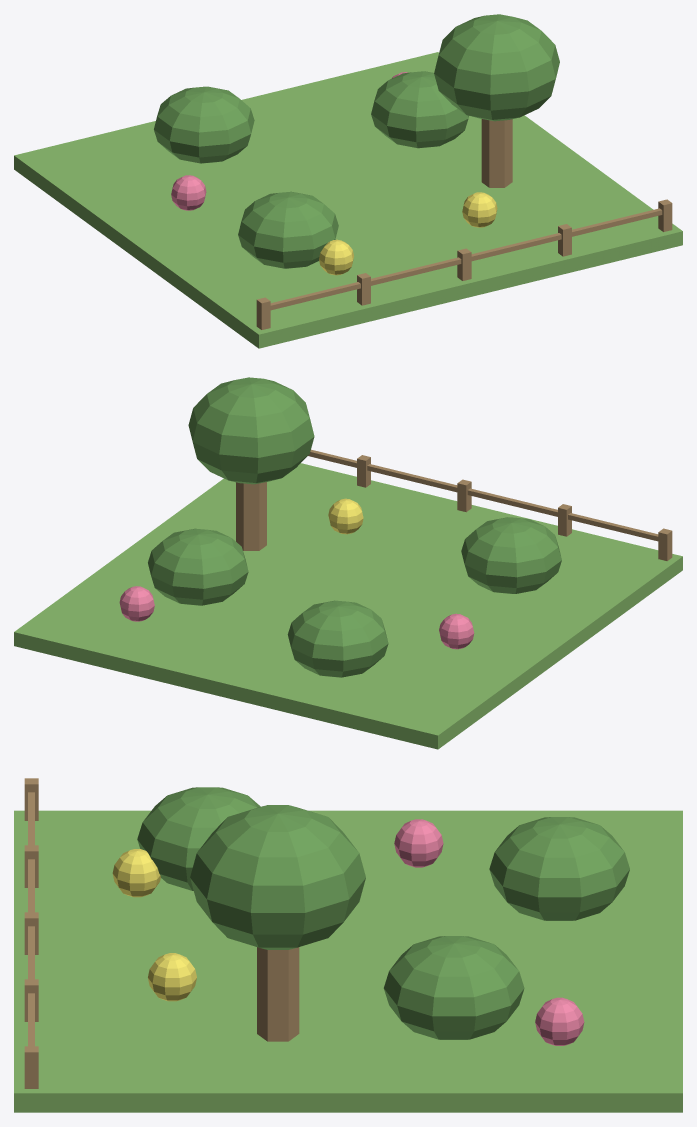
The model's file is garden.glb.
The picture shows the model from 3 angles, top to bottom: view 1: azimuth 30°, elevation 25°; view 2: azimuth 150°, elevation 25°; view 3: azimuth 270°, elevation 25°; orthographic projection. The views are drawn at different scales.
Parts seen in each view (by area): view 1: Garden; view 2: Garden; view 3: Garden.
Part boxes in pixels (left/top/right/bottom): Garden: left=14, top=14, right=682, bottom=348; Garden: left=14, top=377, right=682, bottom=749; Garden: left=14, top=778, right=682, bottom=1112.
Size of the model in its own units: 1.9 by 0.75 by 1.9.
